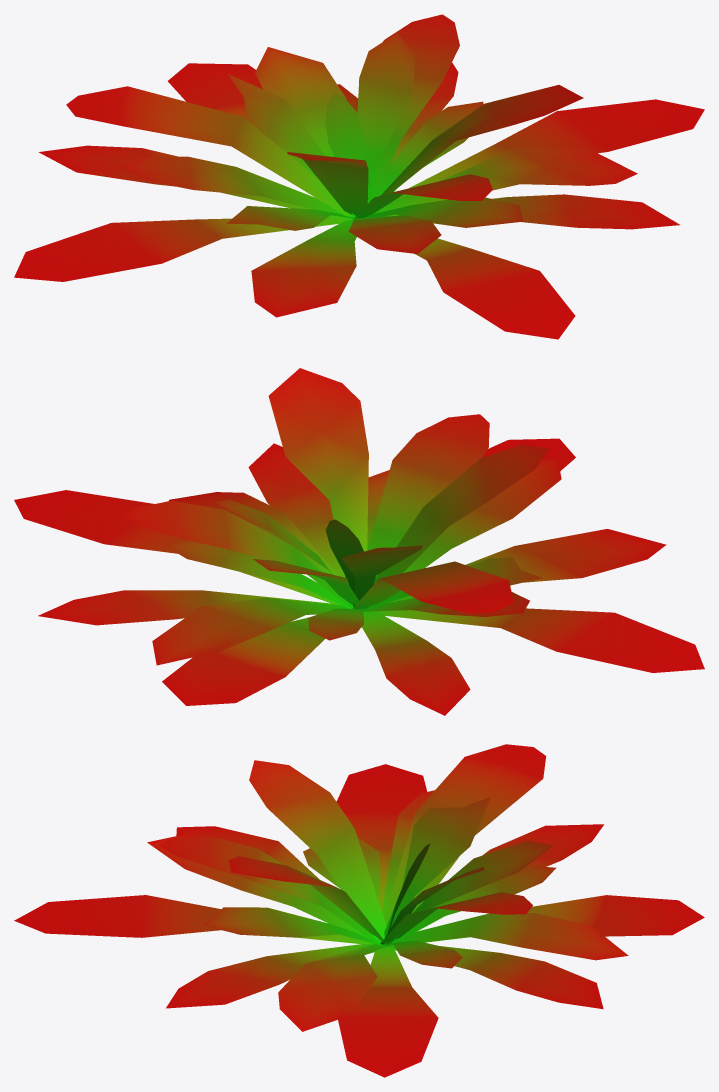
Rendered from Var15_LOD2.fbx.
3 renders of one model, top to bottom at view 1: azimuth 30°, elevation 25°; view 2: azimuth 150°, elevation 25°; view 3: azimuth 270°, elevation 25°, orthographic. The views are drawn at different scales.
Parts seen in each view (by area): view 1: _t6hu_Var15_LOD2; view 2: _t6hu_Var15_LOD2; view 3: _t6hu_Var15_LOD2.
Boxes of the visible parts, <box> form: _t6hu_Var15_LOD2: <box>14,14,704,339</box>; _t6hu_Var15_LOD2: <box>14,368,704,715</box>; _t6hu_Var15_LOD2: <box>14,744,704,1077</box>.
Size of the model in its own units: 20.46 by 4.32 by 19.05.
